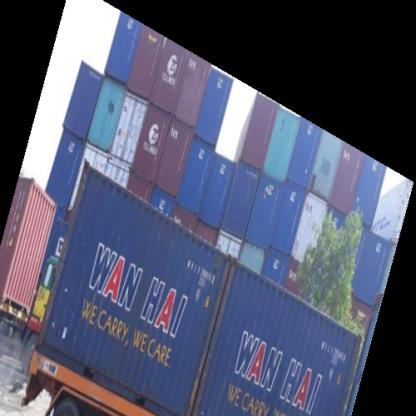Damage: (46, 164, 86, 331), (192, 260, 233, 406)
